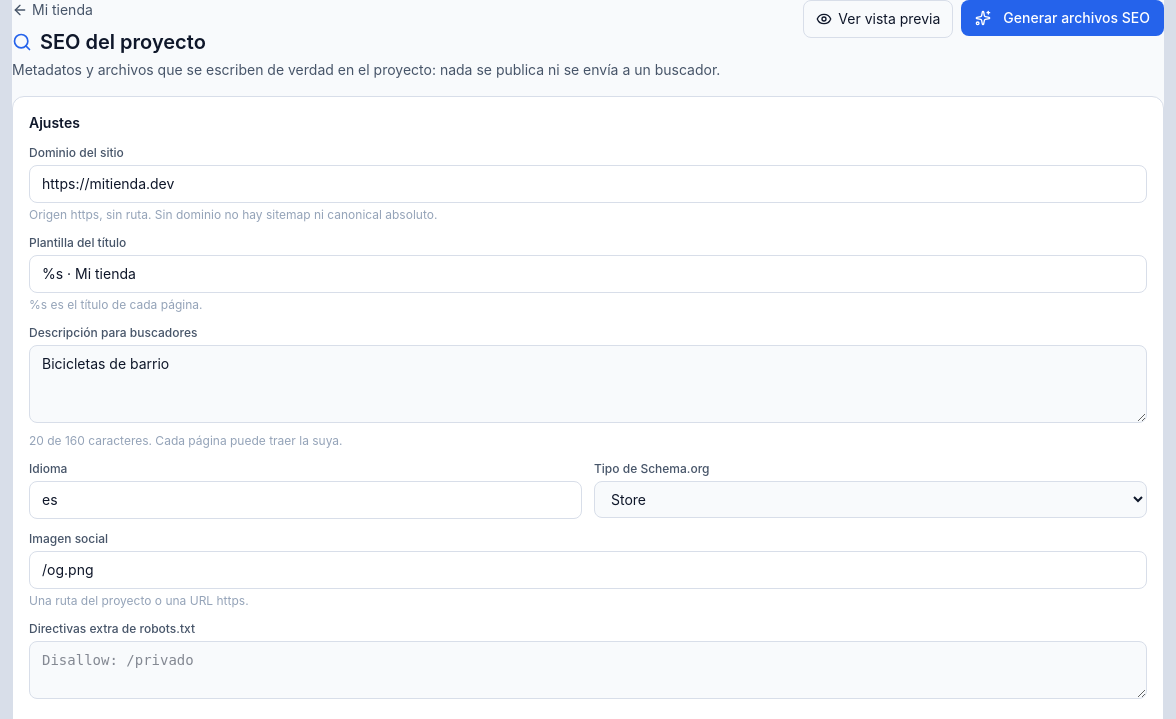
Test: ProjectSeoPage › guardar envía el formulario y lo confirma
Replace the text in the text box labelled "Descripción para buscadores" with "Bicis y taller" at (588, 384), box x1=29 y1=345 x2=1147 y2=423
(page scrolled)
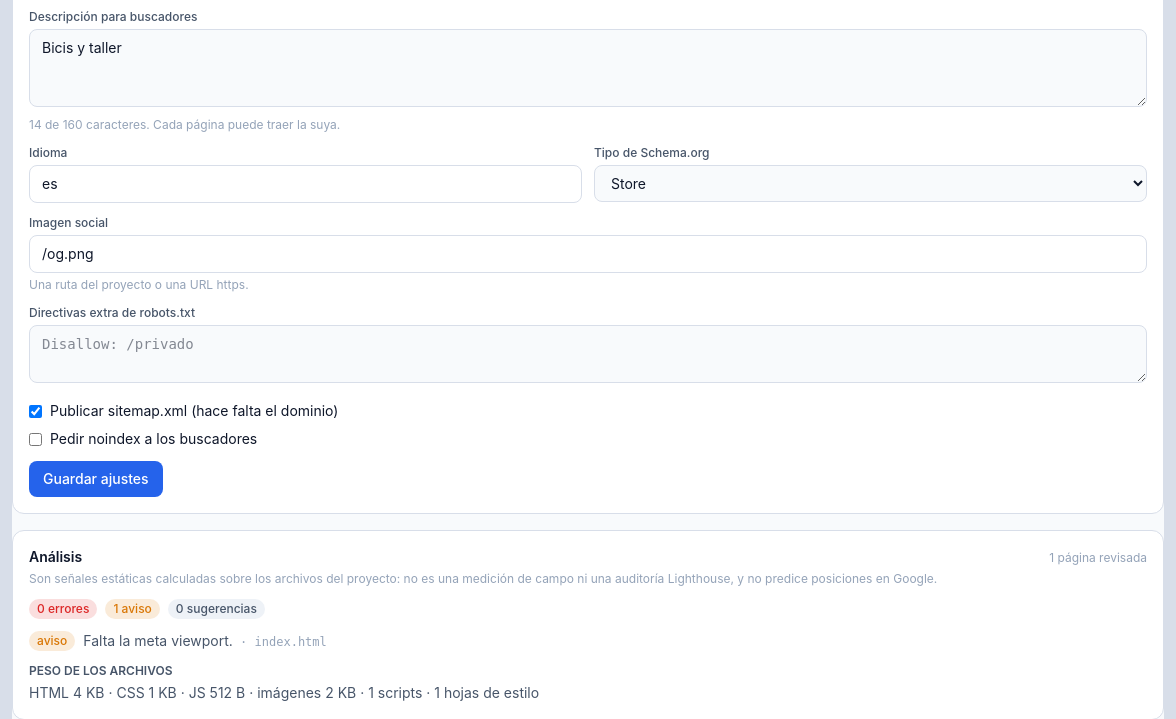
Click the button "Guardar ajustes" at (96, 479), box x1=29 y1=461 x2=163 y2=497
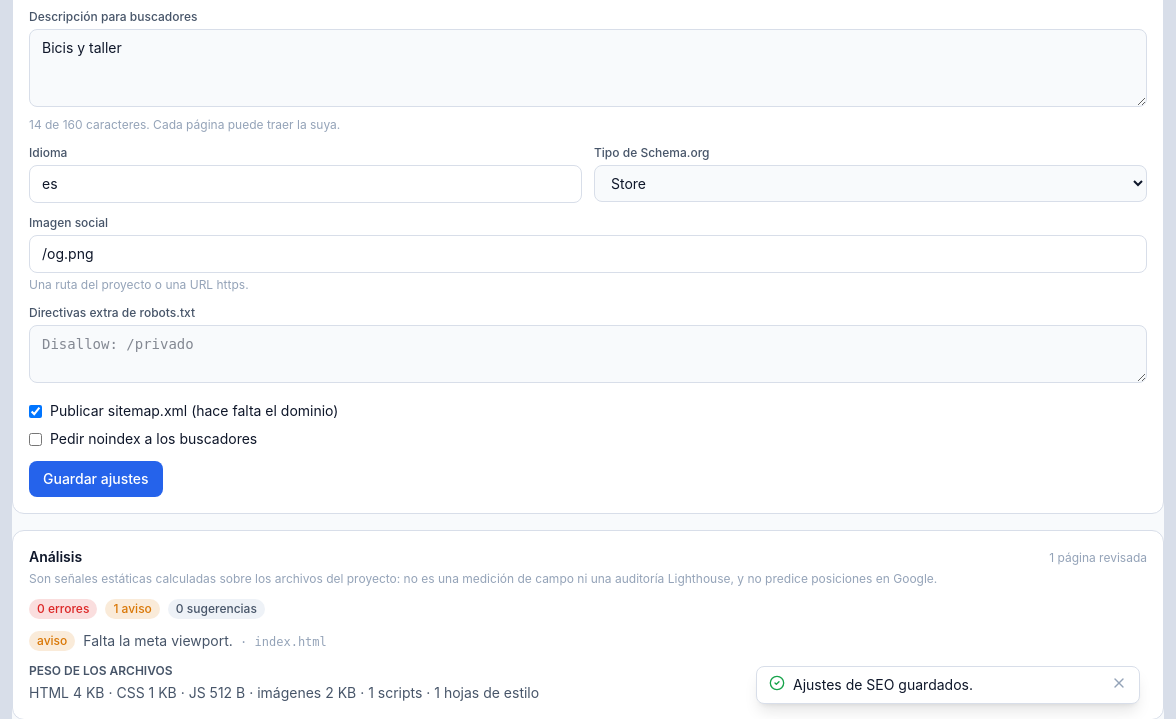
Now the text "Ajustes de SEO guardados." is shown, box x1=793 y1=676 x2=973 y2=693
